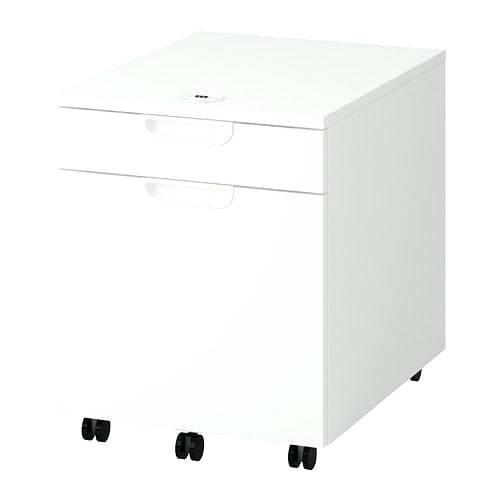cabinet_door: (46, 184, 320, 424), (60, 118, 324, 182)
handle: (142, 181, 234, 210), (140, 118, 234, 145)
